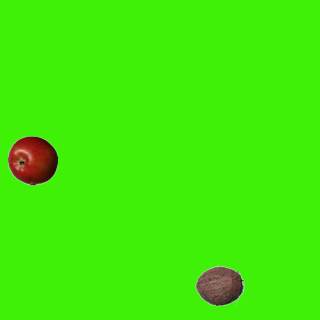Apple Braeburn: (7, 135, 57, 185)
Cocos: (194, 260, 244, 310)
